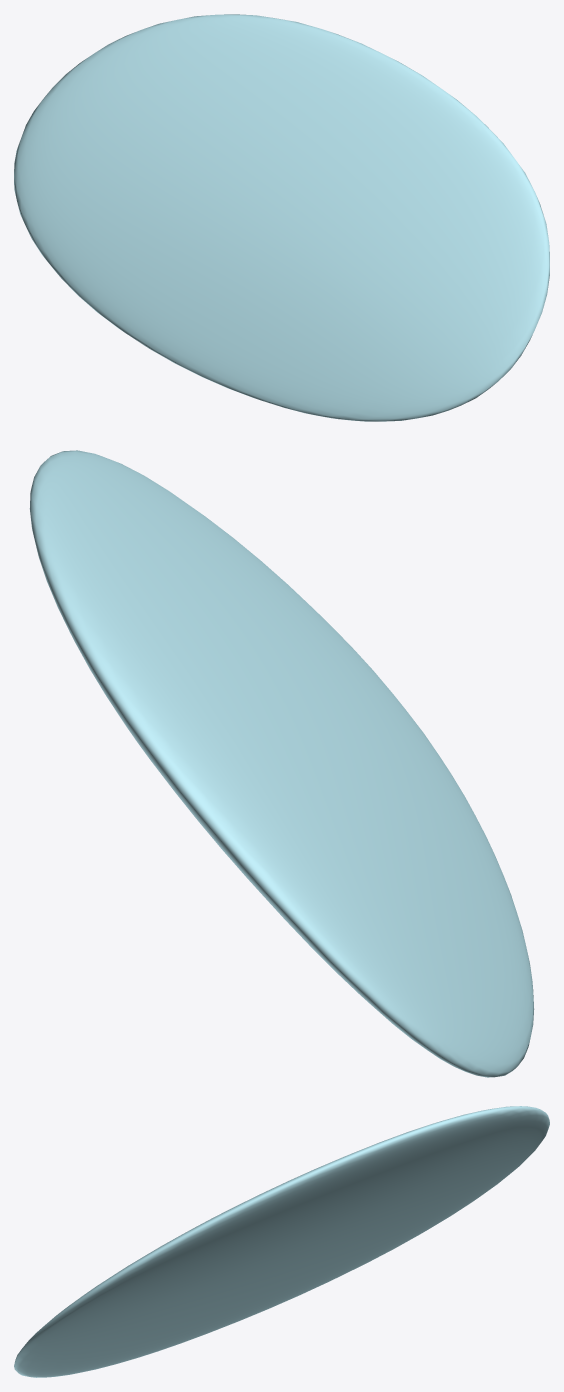
The picture shows the model from 3 angles, top to bottom: view 1: azimuth 30°, elevation 25°; view 2: azimuth 150°, elevation 25°; view 3: azimuth 270°, elevation 25°; orthographic projection. The views are drawn at different scales.
Visible parts, largest first — view 1: EC_F; view 2: EC_F; view 3: EC_F.
Boxes of the visible parts, bbox=[...] form: EC_F: bbox=[14, 14, 549, 421]; EC_F: bbox=[29, 450, 534, 1077]; EC_F: bbox=[14, 1106, 549, 1377].
Size of the model in its own units: 3.7 by 2.87 by 4.98.
